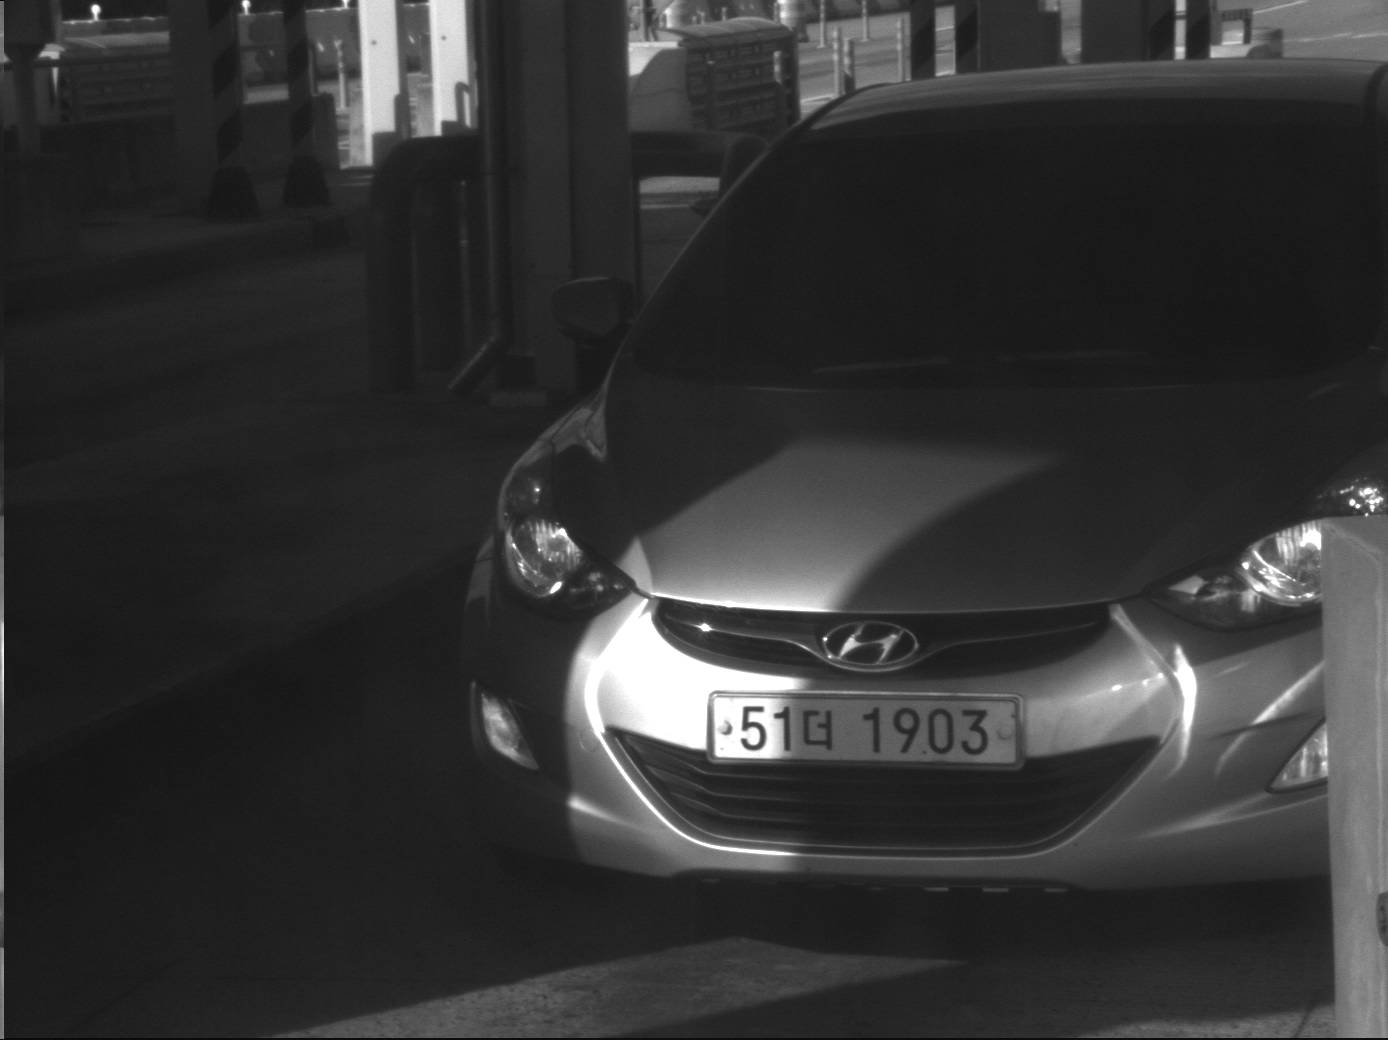car: (453, 56, 1388, 909)
plate: (705, 688, 1025, 769)
